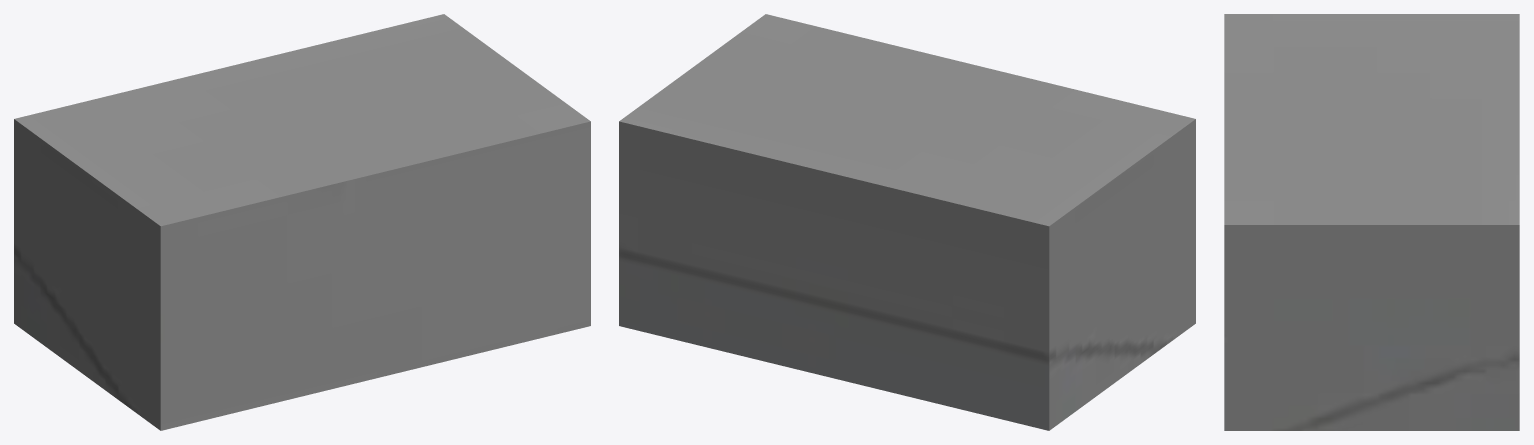
The model's file is body__lan_port__0.022.glb.
The picture shows the model from 3 angles, left to right: view 1: azimuth 30°, elevation 25°; view 2: azimuth 150°, elevation 25°; view 3: azimuth 270°, elevation 25°; orthographic projection.
Visible parts, largest first — view 1: world; view 2: world; view 3: world.
Part boxes in pixels (<box>): world: <box>14,14,590,430</box>; world: <box>619,14,1195,430</box>; world: <box>1224,14,1519,430</box>.
Bounding box in the file's own units: 0.022 × 0.01 × 0.013.
Materials: 1 (1 with a texture image).
